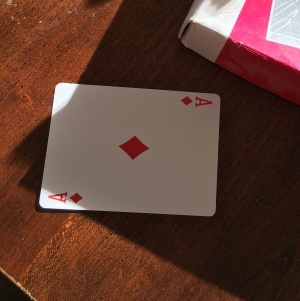card: (37, 82, 223, 219)
